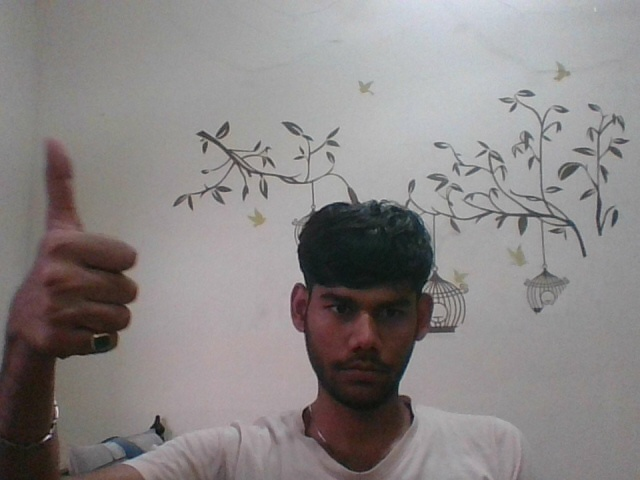Yes: (12, 131, 153, 372)
